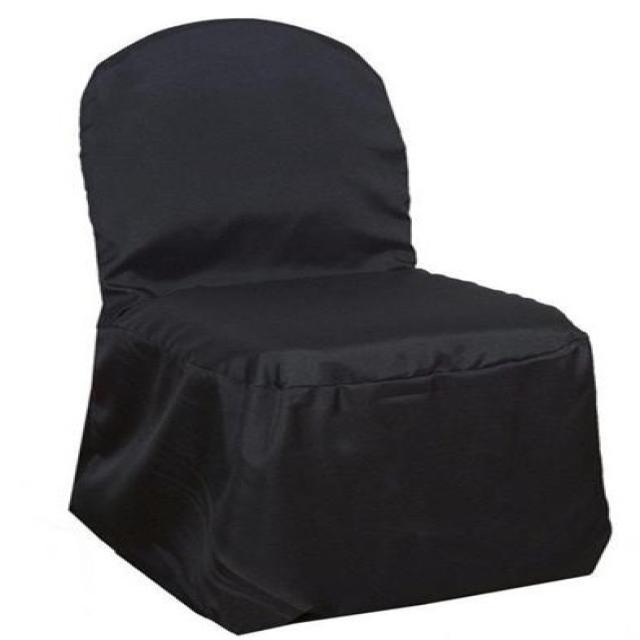chair: (68, 13, 618, 639)
